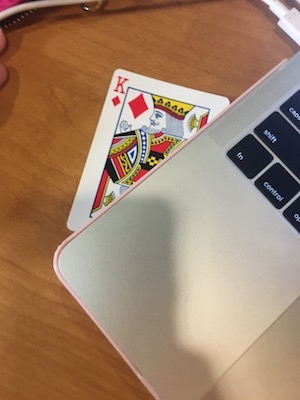KingOfDiamonds: (60, 63, 236, 242)
